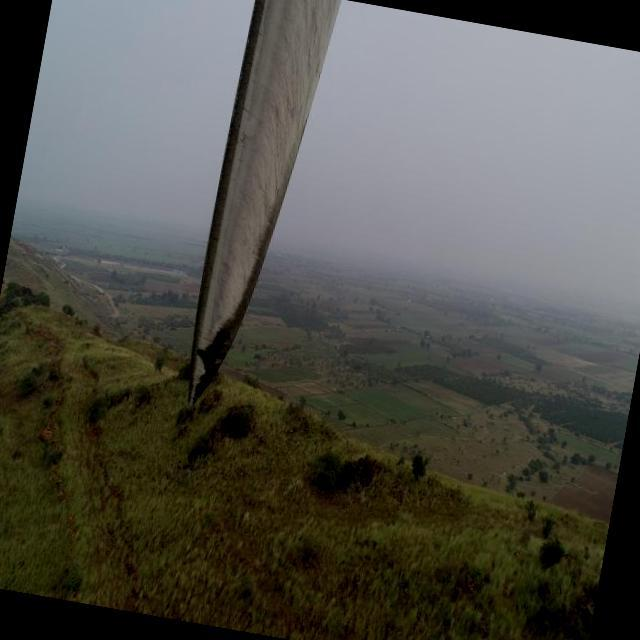Dirt: (190, 0, 339, 400)
Oil LEAKAGE: (191, 226, 273, 399)
Pin Hole: (191, 343, 208, 363)
